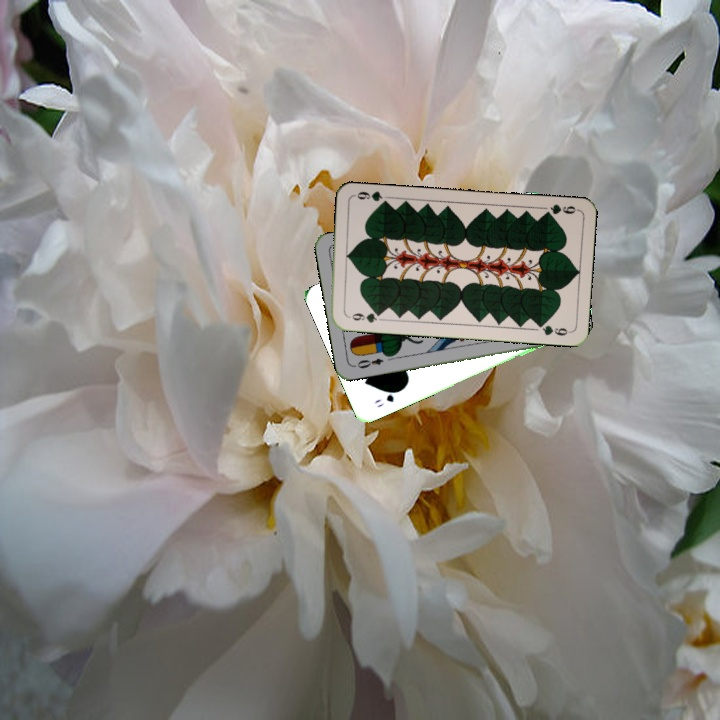EO: (350, 354, 386, 371)
G9: (539, 200, 580, 219), (343, 308, 384, 325)
GO: (370, 385, 404, 410)
